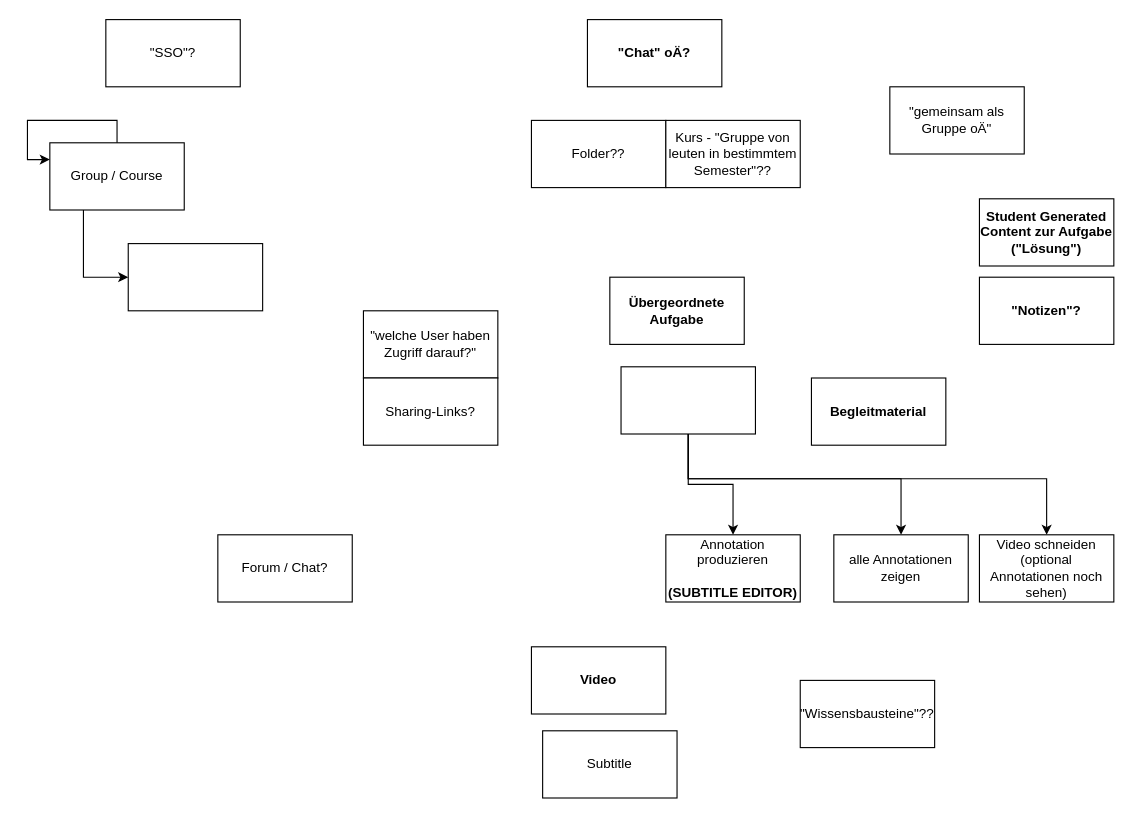
Image size: 1133x818. Some labels were removed from this diagram. Each missing label, with the box of its shape:
Arbeitsphase: (620, 366, 755, 434)
Person / User: (127, 242, 263, 311)
